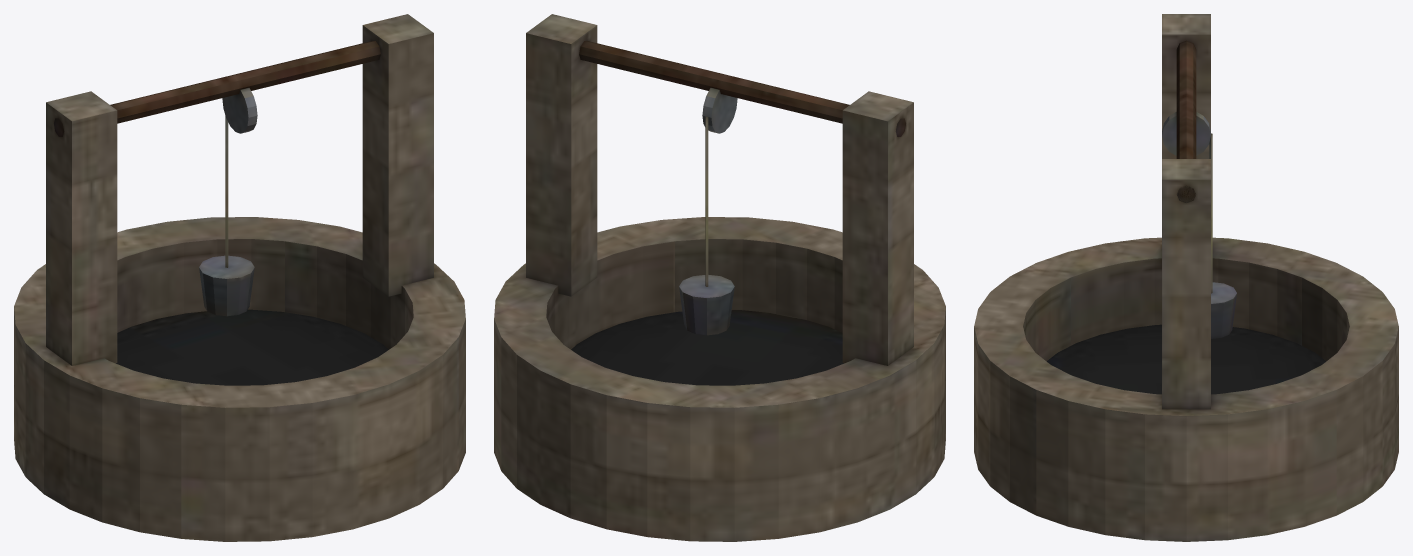
Rendered from well.glb.
The picture shows the model from 3 angles, left to right: view 1: azimuth 30°, elevation 25°; view 2: azimuth 150°, elevation 25°; view 3: azimuth 270°, elevation 25°; orthographic projection. The views are drawn at different scales.
Parts seen in each view (by area): view 1: well; view 2: well; view 3: well.
Boxes of the visible parts, x1=… form: well: x1=14, y1=14, x2=465, y2=541; well: x1=494, y1=14, x2=945, y2=541; well: x1=974, y1=14, x2=1398, y2=541.
Size of the model in its own units: 2.6 by 2.4 by 2.6.
Materials: 1 (1 with a texture image).
